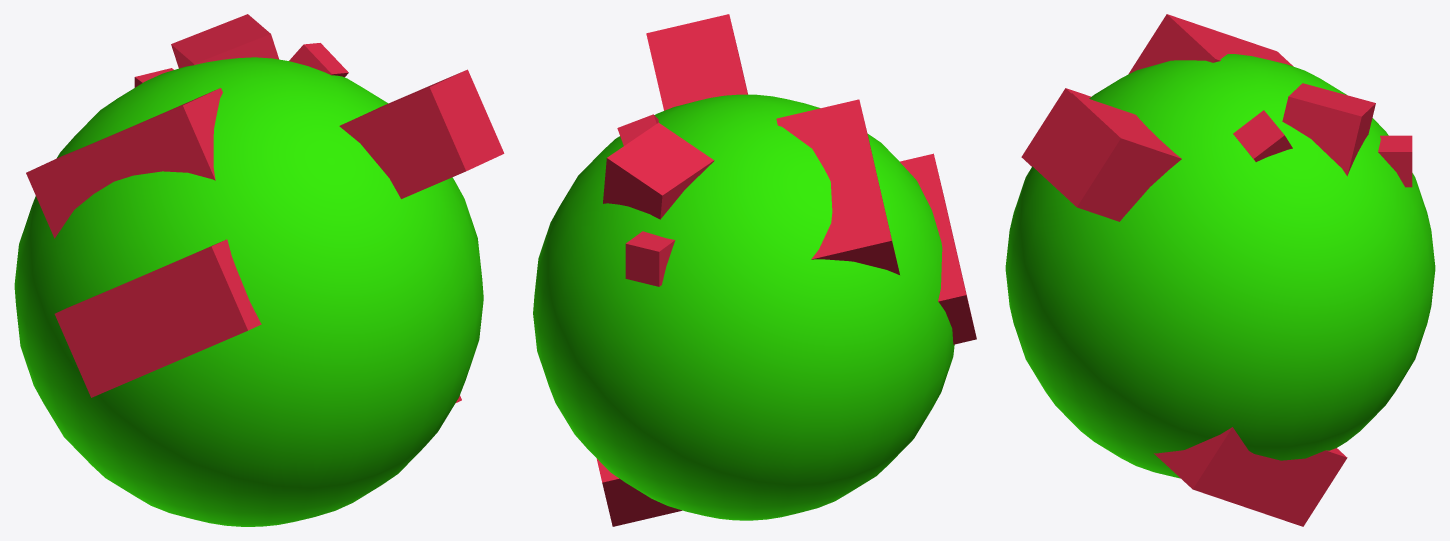
The model's file is earth.fbx.
3 renders of one model, left to right at view 1: azimuth 30°, elevation 25°; view 2: azimuth 150°, elevation 25°; view 3: azimuth 270°, elevation 25°, orthographic. The views are drawn at different scales.
Visible parts, largest first — view 1: Sphere, Cube.005, Cube.003, Cube.006, Cube.002, Cube.001; view 2: Sphere, Cube.006, Cube.003, Cube.002, Cube.005, Cube.004, Cube, Cube.001; view 3: Sphere, Cube.003, Cube.004, Cube.002, Cube.006, Cube.001, Cube, Cube.005.
Part boxes in pixels (x1=…): Sphere: x1=14, y1=57, x2=483, y2=526; Cube.005: x1=54, y1=239, x2=261, y2=397; Cube.003: x1=339, y1=69, x2=504, y2=198; Cube.006: x1=26, y1=88, x2=222, y2=238; Cube.002: x1=171, y1=14, x2=279, y2=68; Cube.001: x1=289, y1=43, x2=348, y2=77; Sphere: x1=533, y1=94, x2=954, y2=520; Cube.006: x1=776, y1=99, x2=899, y2=274; Cube.003: x1=646, y1=14, x2=747, y2=110; Cube.002: x1=603, y1=122, x2=714, y2=219; Cube.005: x1=900, y1=153, x2=976, y2=344; Cube.004: x1=596, y1=458, x2=682, y2=526; Cube: x1=625, y1=231, x2=675, y2=286; Cube.001: x1=617, y1=114, x2=658, y2=145; Sphere: x1=1005, y1=54, x2=1435, y2=478; Cube.003: x1=1028, y1=93, x2=1181, y2=221; Cube.004: x1=1154, y1=427, x2=1347, y2=526; Cube.002: x1=1282, y1=83, x2=1375, y2=176; Cube.006: x1=1128, y1=14, x2=1293, y2=74; Cube.001: x1=1233, y1=110, x2=1292, y2=161; Cube: x1=1378, y1=135, x2=1412, y2=187; Cube.005: x1=1021, y1=88, x2=1091, y2=166.
Bounding box in the file's own units: 2284 × 2446 × 2202.
